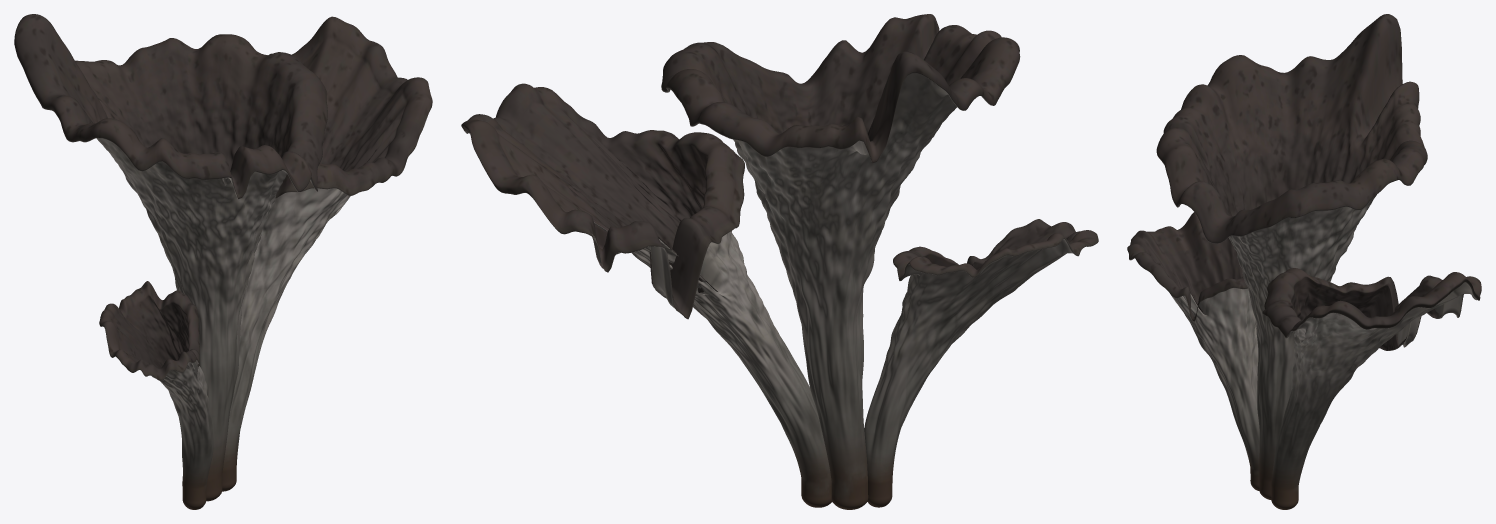
File: craterellus-cornucopioides.glb
3 views of the same model, side by side, from view 1: azimuth 30°, elevation 25°; view 2: azimuth 150°, elevation 25°; view 3: azimuth 270°, elevation 25° (orthographic). The views are drawn at different scales.
Visible parts, largest first — view 1: trumpet-a, trumpet-b, trumpet-c; view 2: trumpet-a, trumpet-b, trumpet-c; view 3: trumpet-a, trumpet-b, trumpet-c.
Part boxes in pixels (x1,y1,x2,y2): trumpet-a: (14, 14, 327, 501); trumpet-b: (222, 16, 432, 491); trumpet-c: (99, 281, 213, 509); trumpet-a: (661, 14, 1020, 509); trumpet-b: (461, 83, 831, 507); trumpet-c: (864, 219, 1098, 507); trumpet-a: (1156, 14, 1427, 499); trumpet-b: (1262, 268, 1481, 509); trumpet-c: (1127, 212, 1259, 490).
Size of the model in its own units: 0.1037 by 0.1136 by 0.0845.
Materials: 3 (3 with a texture image).
